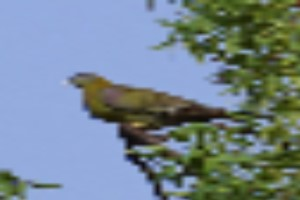pigeon: (62, 71, 231, 128)
